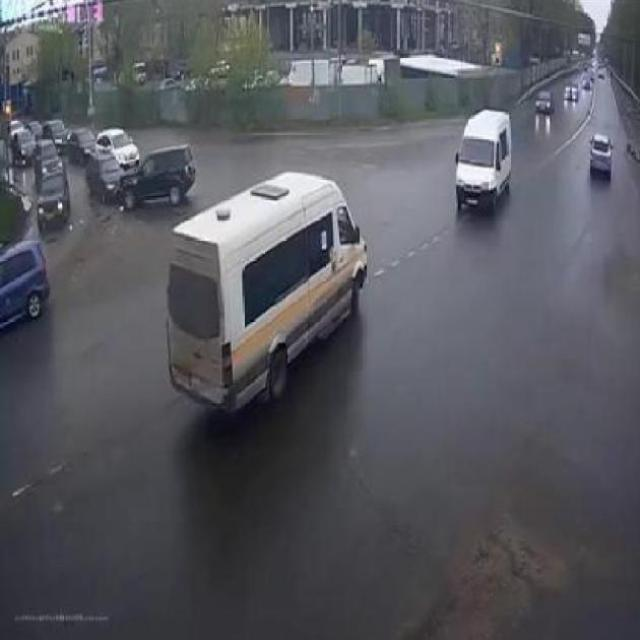accident: (83, 150, 167, 196)
